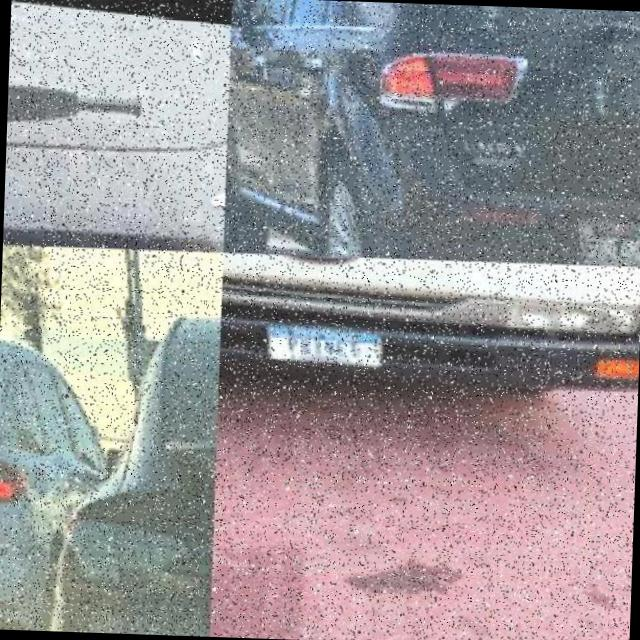LicensePlate: (256, 318, 376, 362), (568, 208, 640, 260)
